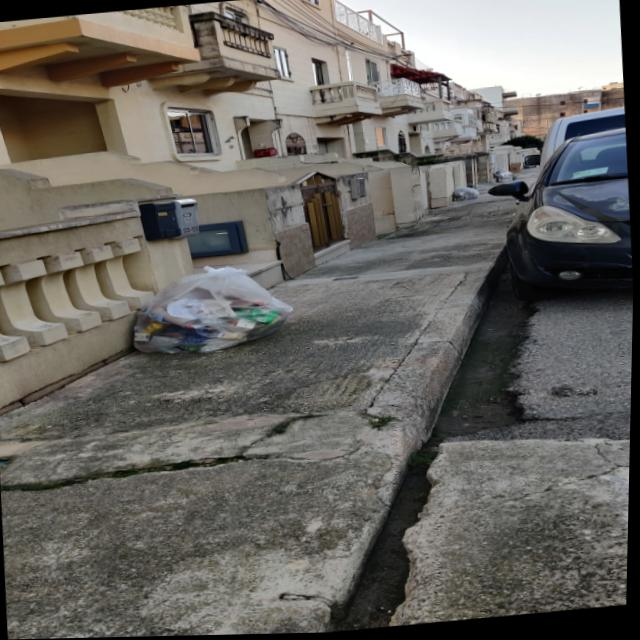Recyclable Material -Grey Bags-: (131, 267, 295, 355), (452, 189, 480, 203), (493, 169, 516, 185)
